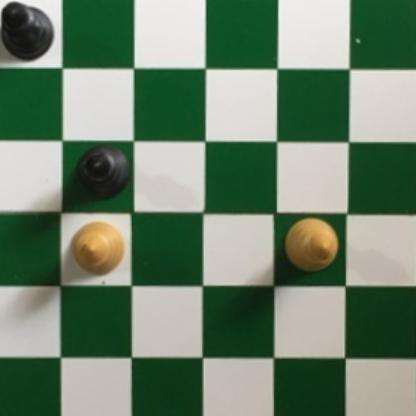black-bishop: (72, 141, 133, 204), (0, 0, 54, 64)
white-bishop: (280, 215, 343, 273), (69, 221, 126, 277)
